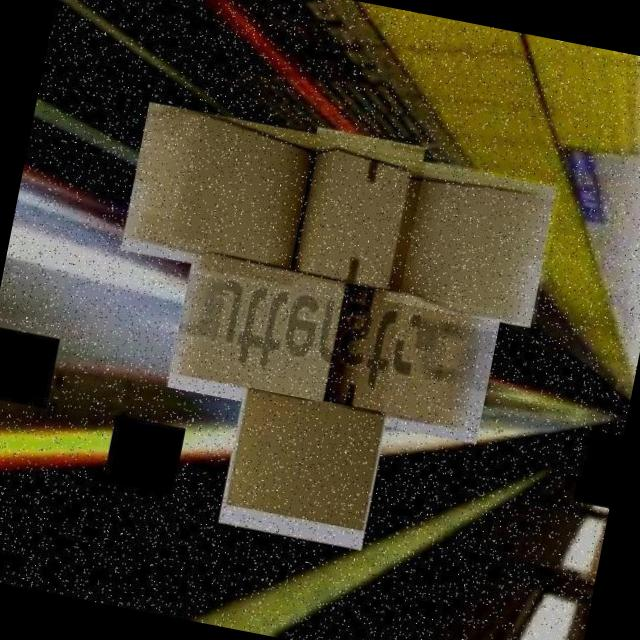box: (119, 97, 322, 286), (165, 240, 355, 418), (320, 268, 507, 446), (386, 157, 562, 330), (216, 386, 391, 553), (286, 124, 429, 296)
